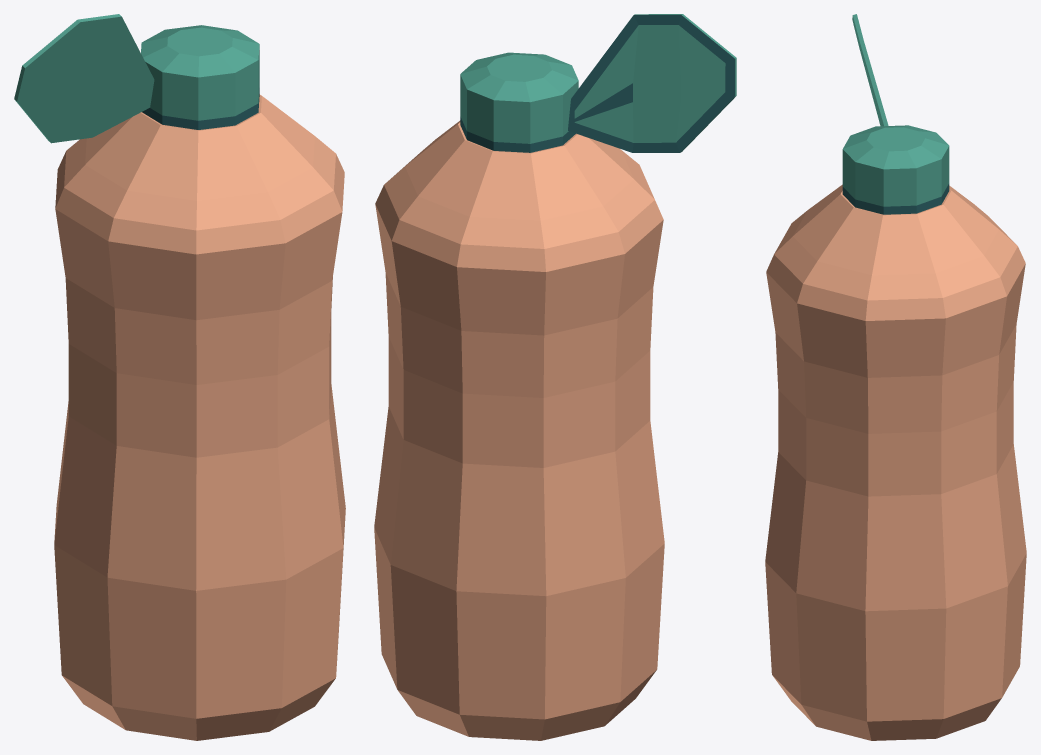
Rendered from Potion.OrangePower.fbx.
3 views of the same model, side by side, from view 1: azimuth 30°, elevation 25°; view 2: azimuth 150°, elevation 25°; view 3: azimuth 270°, elevation 25° (orthographic). The views are drawn at different scales.
Parts seen in each view (by area): view 1: Potion.OrangePower; view 2: Potion.OrangePower; view 3: Potion.OrangePower.
Boxes of the visible parts, x1,y1,x2,y2 form: Potion.OrangePower: (14, 14, 345, 740); Potion.OrangePower: (374, 14, 736, 740); Potion.OrangePower: (765, 14, 1026, 740).
Bounding box in the file's own units: 45.81 × 96.68 × 36.15.
